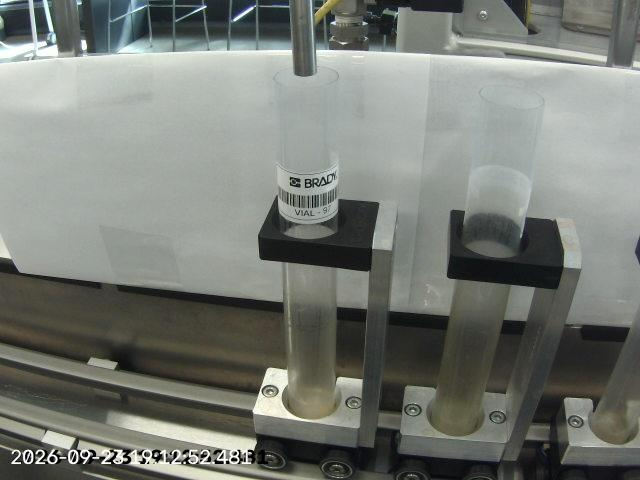vial: (425, 84, 548, 435), (272, 65, 343, 417)
